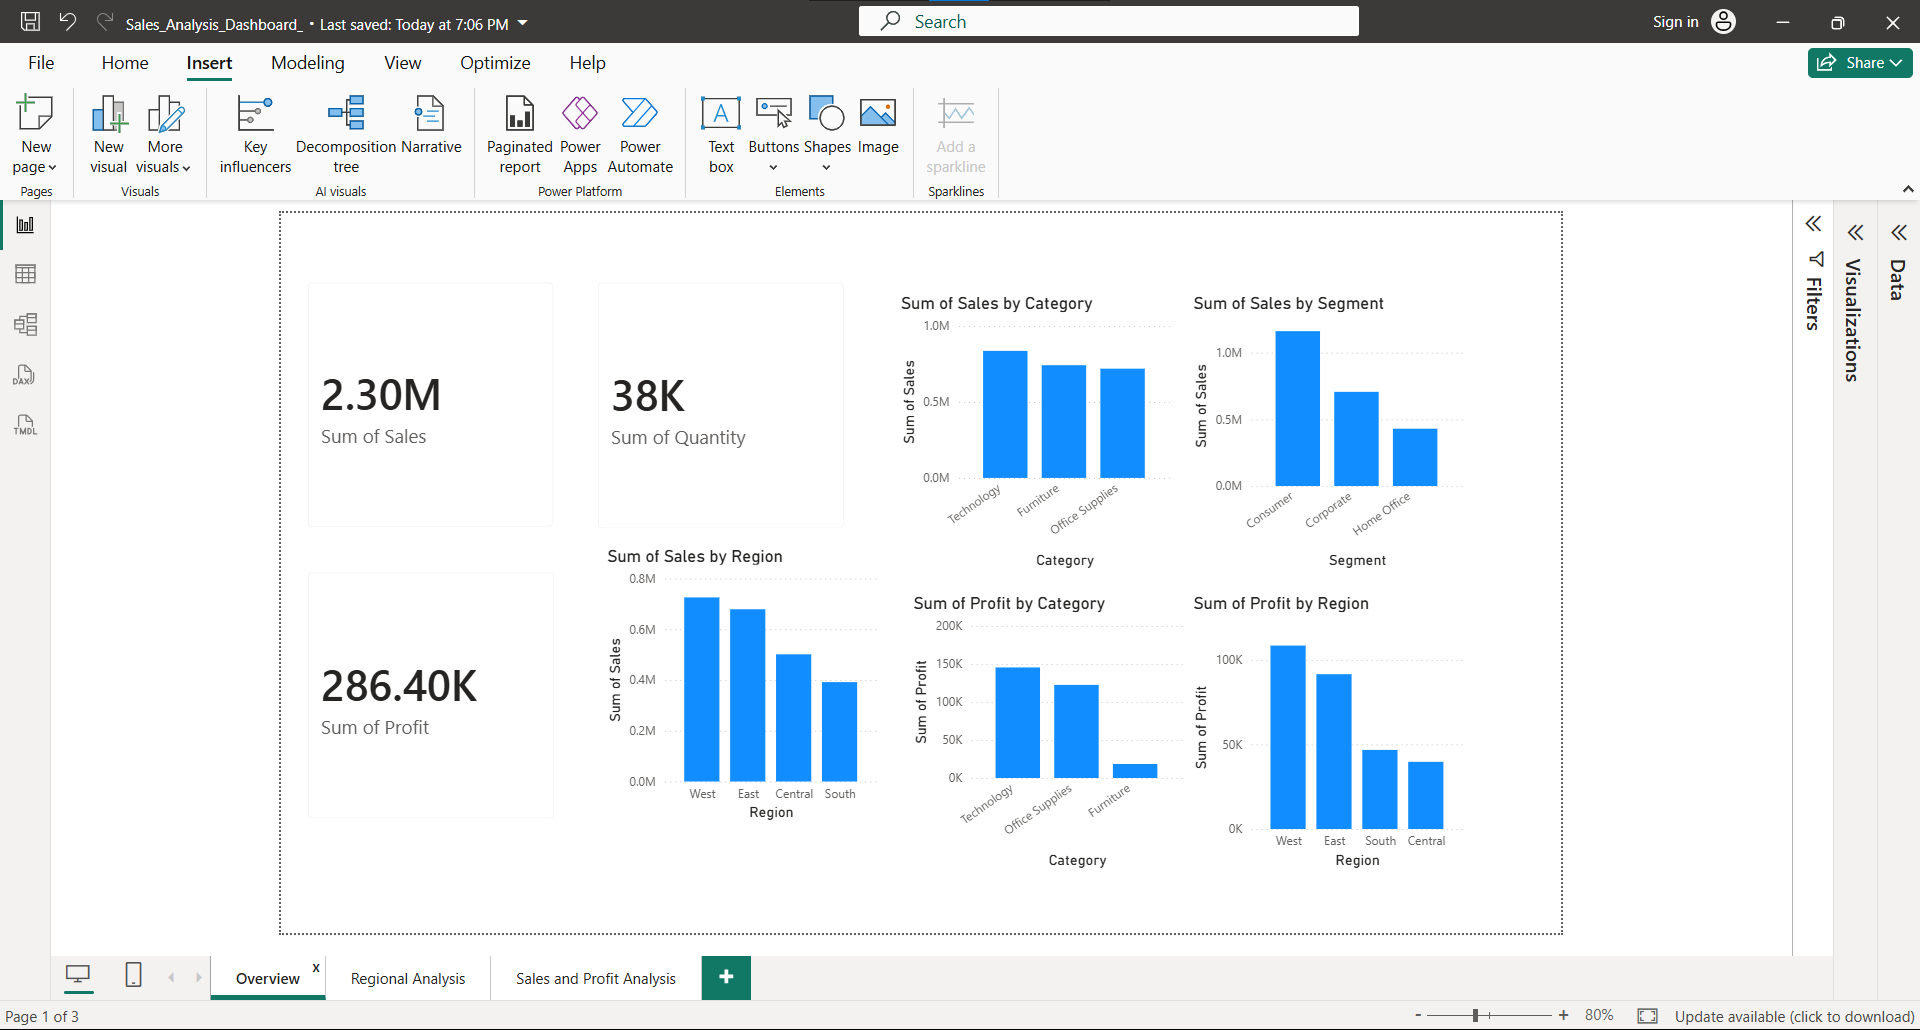

The dashboard page shown, as its layout file describes it:
{"tool":"powerbi","page":{"name":"Overview","canvas":[1280,720],"ordinal":0},"visuals":[{"type":"cardVisual","fields":{"Data":["Sum(SampleSuperstore.Sales)"]},"box":[9.6,52.1,279.9,279.9],"z":0},{"type":"cardVisual","fields":{"Data":["Sum(SampleSuperstore.Profit)"]},"box":[10,342,280,280],"z":1},{"type":"cardVisual","fields":{"Data":["Sum(SampleSuperstore.Quantity)"]},"box":[300,52,280,280],"z":2},{"type":"clusteredColumnChart","fields":{"Category":["SampleSuperstore.Category"],"Y":["Sum(SampleSuperstore.Sales)"]},"box":[614.8,79.6,279.9,279.9],"z":3},{"type":"clusteredColumnChart","fields":{"Category":["SampleSuperstore.Region"],"Y":["Sum(SampleSuperstore.Sales)"]},"box":[321.2,332.5,280,280],"z":4},{"type":"clusteredColumnChart","fields":{"Category":["SampleSuperstore.Category"],"Y":["Sum(SampleSuperstore.Profit)"]},"box":[627.5,380,280,280],"z":5},{"type":"clusteredColumnChart","fields":{"Category":["SampleSuperstore.Segment"],"Y":["Sum(SampleSuperstore.Sales)"]},"box":[907.5,80,280,280],"z":6},{"type":"clusteredColumnChart","fields":{"Category":["SampleSuperstore.Region"],"Y":["Sum(SampleSuperstore.Profit)"]},"box":[908,380,280,280],"z":7}]}

Visuals, with their boxes on the page's 1280x720 design canvas (x1, y1, x2, y2). These are canvas units, not pixel positions in the 1920x1030 screenshot, which may show the page scaled, cropped or inside an application window:
cardVisual - Sum(SampleSuperstore.Sales): [left=10, top=52, right=290, bottom=332]
cardVisual - Sum(SampleSuperstore.Profit): [left=10, top=342, right=290, bottom=622]
cardVisual - Sum(SampleSuperstore.Quantity): [left=300, top=52, right=580, bottom=332]
clusteredColumnChart - SampleSuperstore.Category x Sum(SampleSuperstore.Sales): [left=615, top=80, right=895, bottom=360]
clusteredColumnChart - SampleSuperstore.Region x Sum(SampleSuperstore.Sales): [left=321, top=332, right=601, bottom=612]
clusteredColumnChart - SampleSuperstore.Category x Sum(SampleSuperstore.Profit): [left=628, top=380, right=908, bottom=660]
clusteredColumnChart - SampleSuperstore.Segment x Sum(SampleSuperstore.Sales): [left=908, top=80, right=1188, bottom=360]
clusteredColumnChart - SampleSuperstore.Region x Sum(SampleSuperstore.Profit): [left=908, top=380, right=1188, bottom=660]
